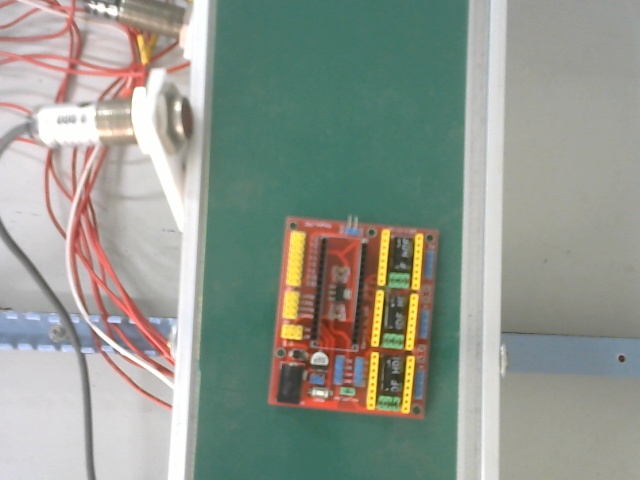IC: (324, 268, 355, 316)
capacitor: (377, 349, 408, 398), (387, 229, 417, 274), (382, 292, 410, 335), (305, 346, 334, 373)
